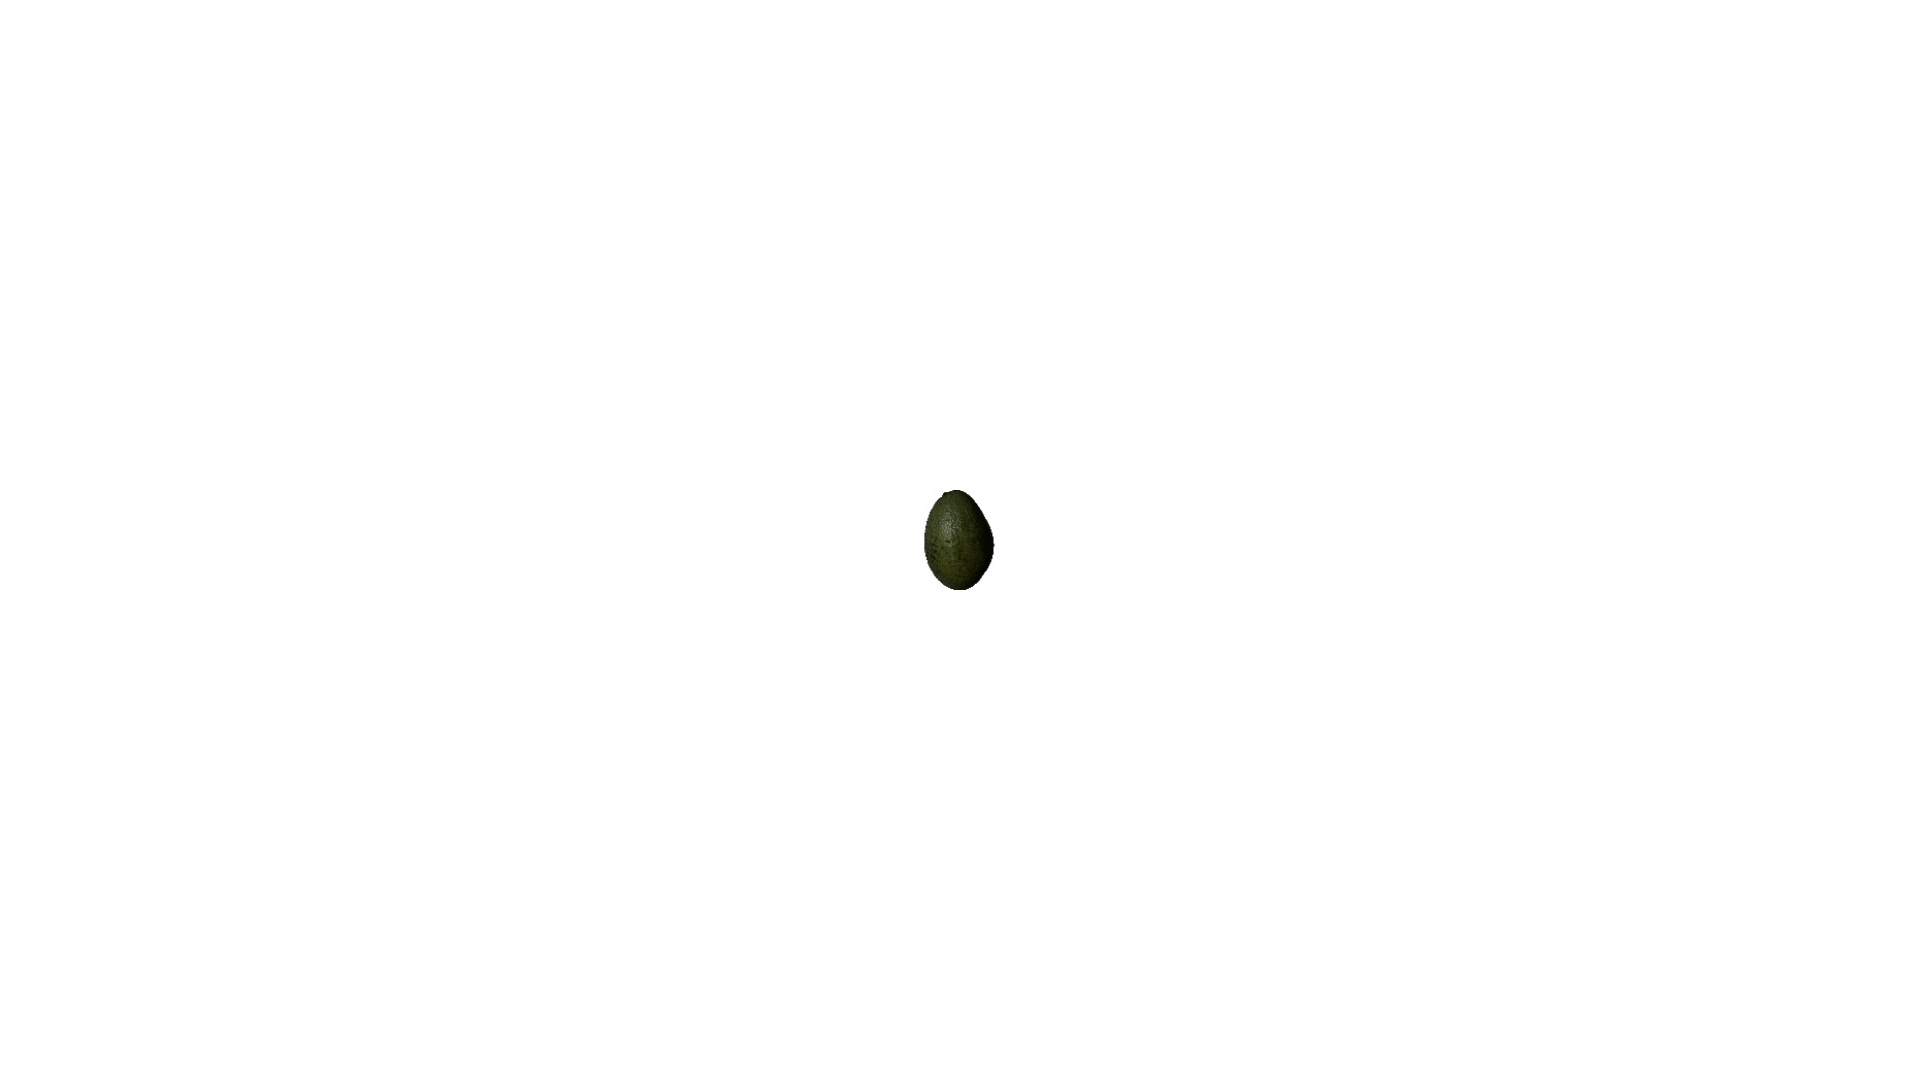abacate: (922, 484, 1000, 597)
